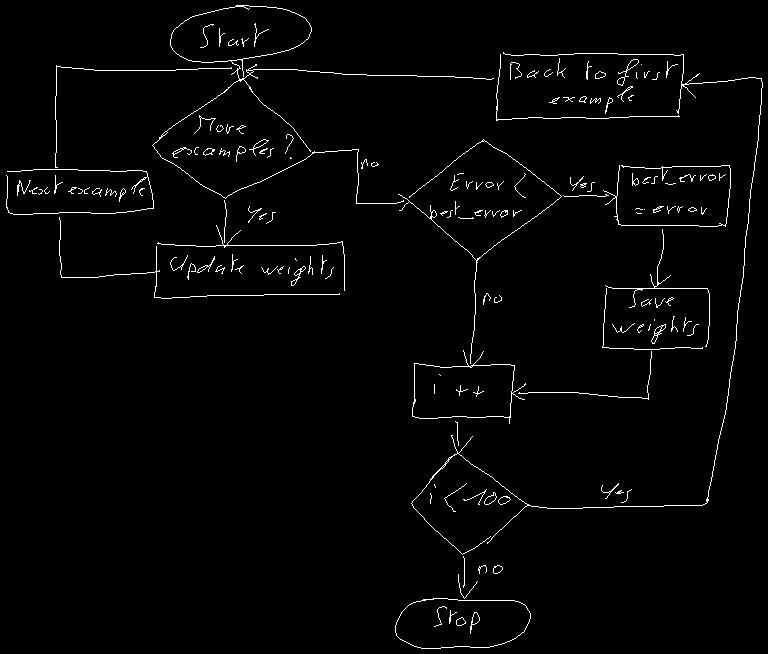arrow: (527, 73, 762, 508), (55, 61, 240, 167), (512, 351, 651, 399), (59, 217, 159, 277), (312, 149, 409, 210), (246, 64, 493, 79), (463, 261, 483, 367), (650, 229, 670, 287), (216, 200, 240, 247), (458, 556, 477, 598), (563, 190, 616, 204), (451, 421, 472, 453), (237, 60, 253, 81)
decision: (152, 78, 314, 198), (407, 139, 561, 260), (411, 452, 528, 554)
process: (496, 52, 683, 120), (154, 241, 344, 298), (614, 165, 730, 226), (602, 285, 709, 349), (6, 169, 153, 214), (412, 363, 514, 423)
terminator: (170, 5, 311, 62), (395, 598, 530, 648)
text: (510, 58, 677, 113), (172, 115, 293, 161), (170, 254, 333, 285), (612, 289, 698, 343), (632, 166, 725, 214), (430, 173, 525, 218), (17, 175, 146, 201), (430, 483, 510, 511), (200, 23, 268, 47), (434, 606, 479, 633), (434, 374, 483, 396), (601, 483, 631, 502), (248, 206, 275, 223), (570, 176, 594, 191), (483, 293, 501, 304), (478, 565, 502, 573), (361, 159, 378, 168)
